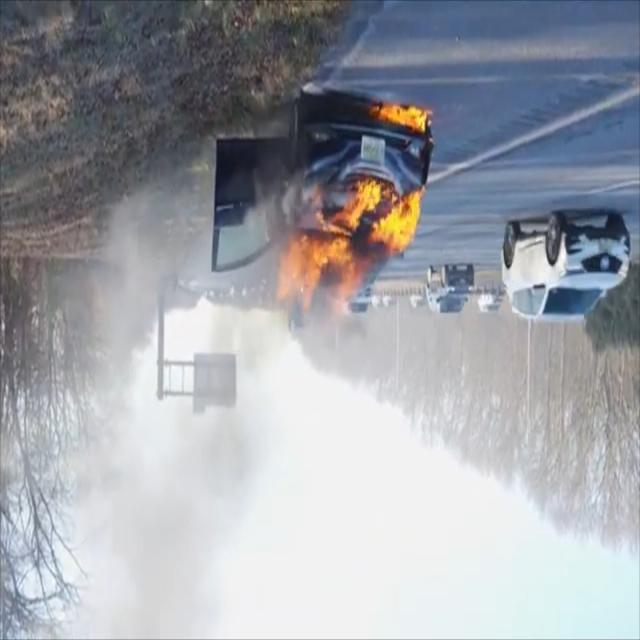fire: (273, 104, 433, 326)
